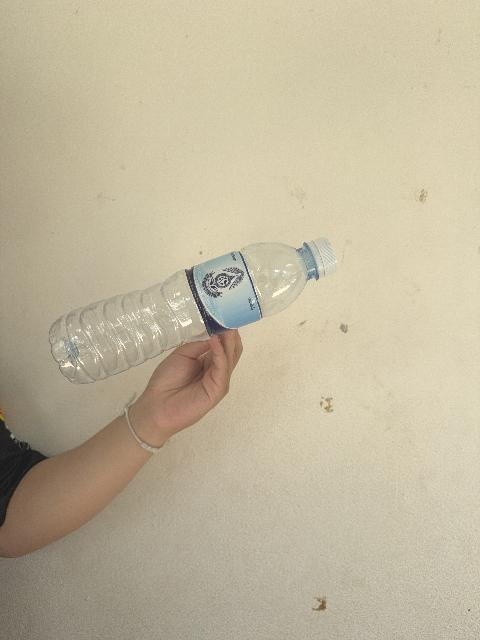bottle: (49, 238, 336, 383)
